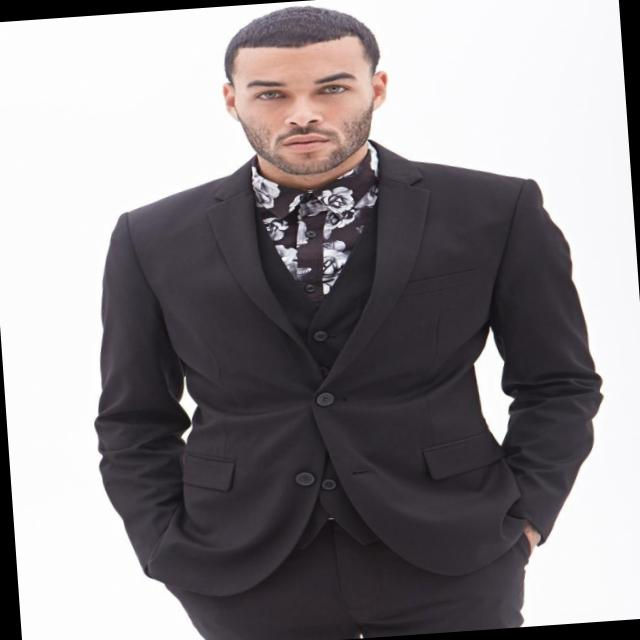Jacket: (72, 137, 618, 586)
